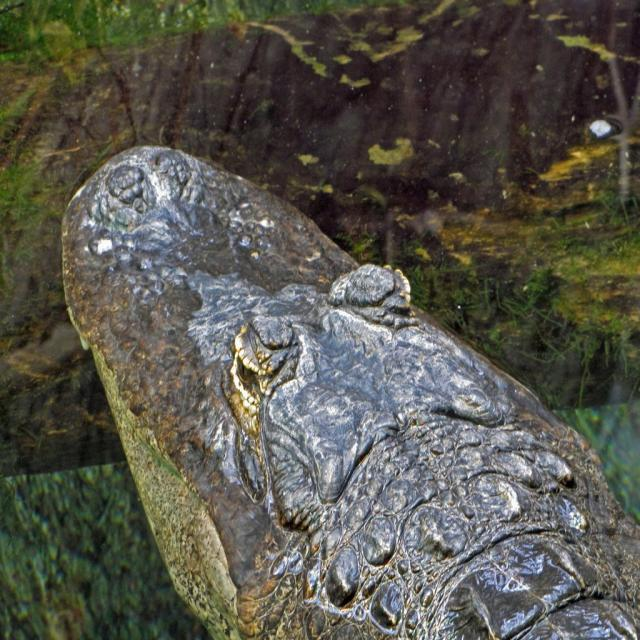crocodile: (64, 137, 639, 639)
